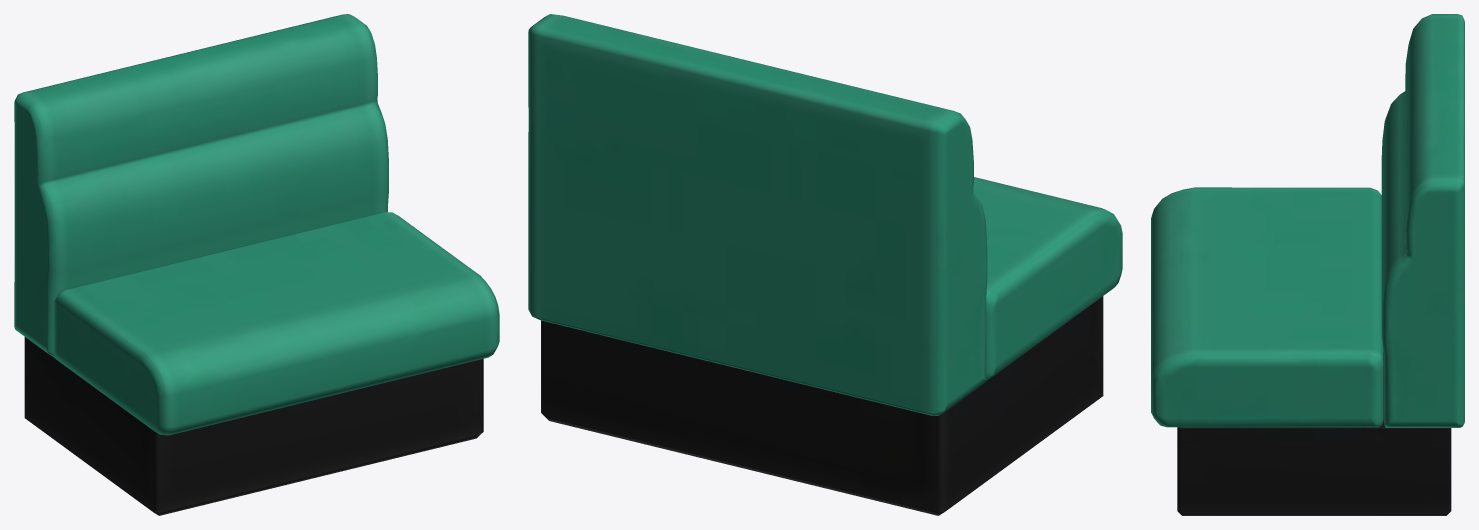
3 views of the same model, side by side, from view 1: azimuth 30°, elevation 25°; view 2: azimuth 150°, elevation 25°; view 3: azimuth 270°, elevation 25° (orthographic). The views are drawn at different scales.
Size of the model in its own units: 10 by 9.18 by 7.72.
Materials: 1 (1 with a texture image).
